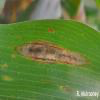Corn leaf blight: (0, 22, 99, 88)
